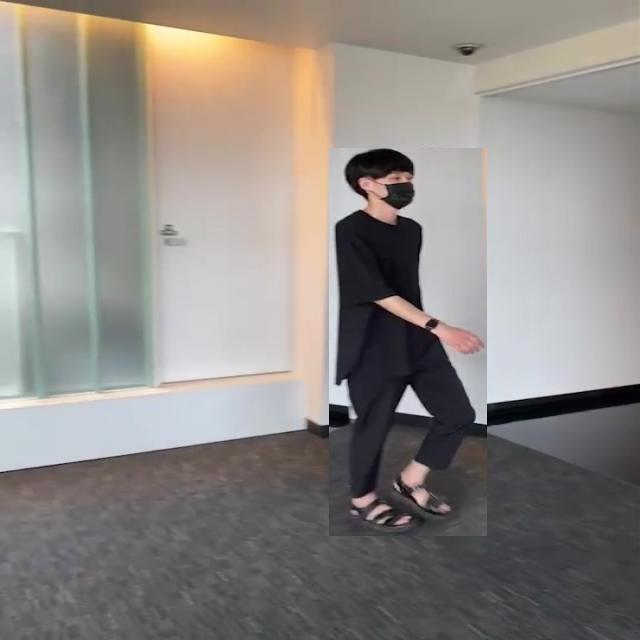direk: (329, 148, 487, 536)
